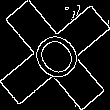O_SE: (23, 22, 87, 88)
